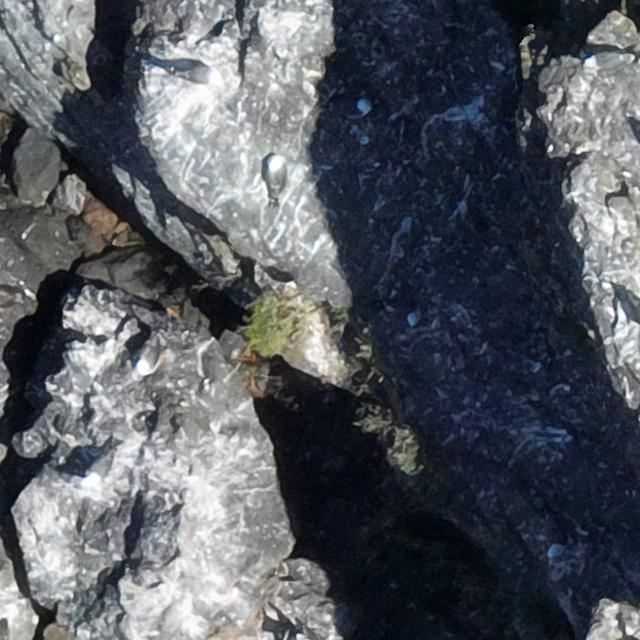umineko: (179, 65, 222, 82), (335, 96, 371, 116), (135, 344, 158, 374), (266, 156, 283, 192), (585, 51, 618, 68), (85, 459, 108, 483)
